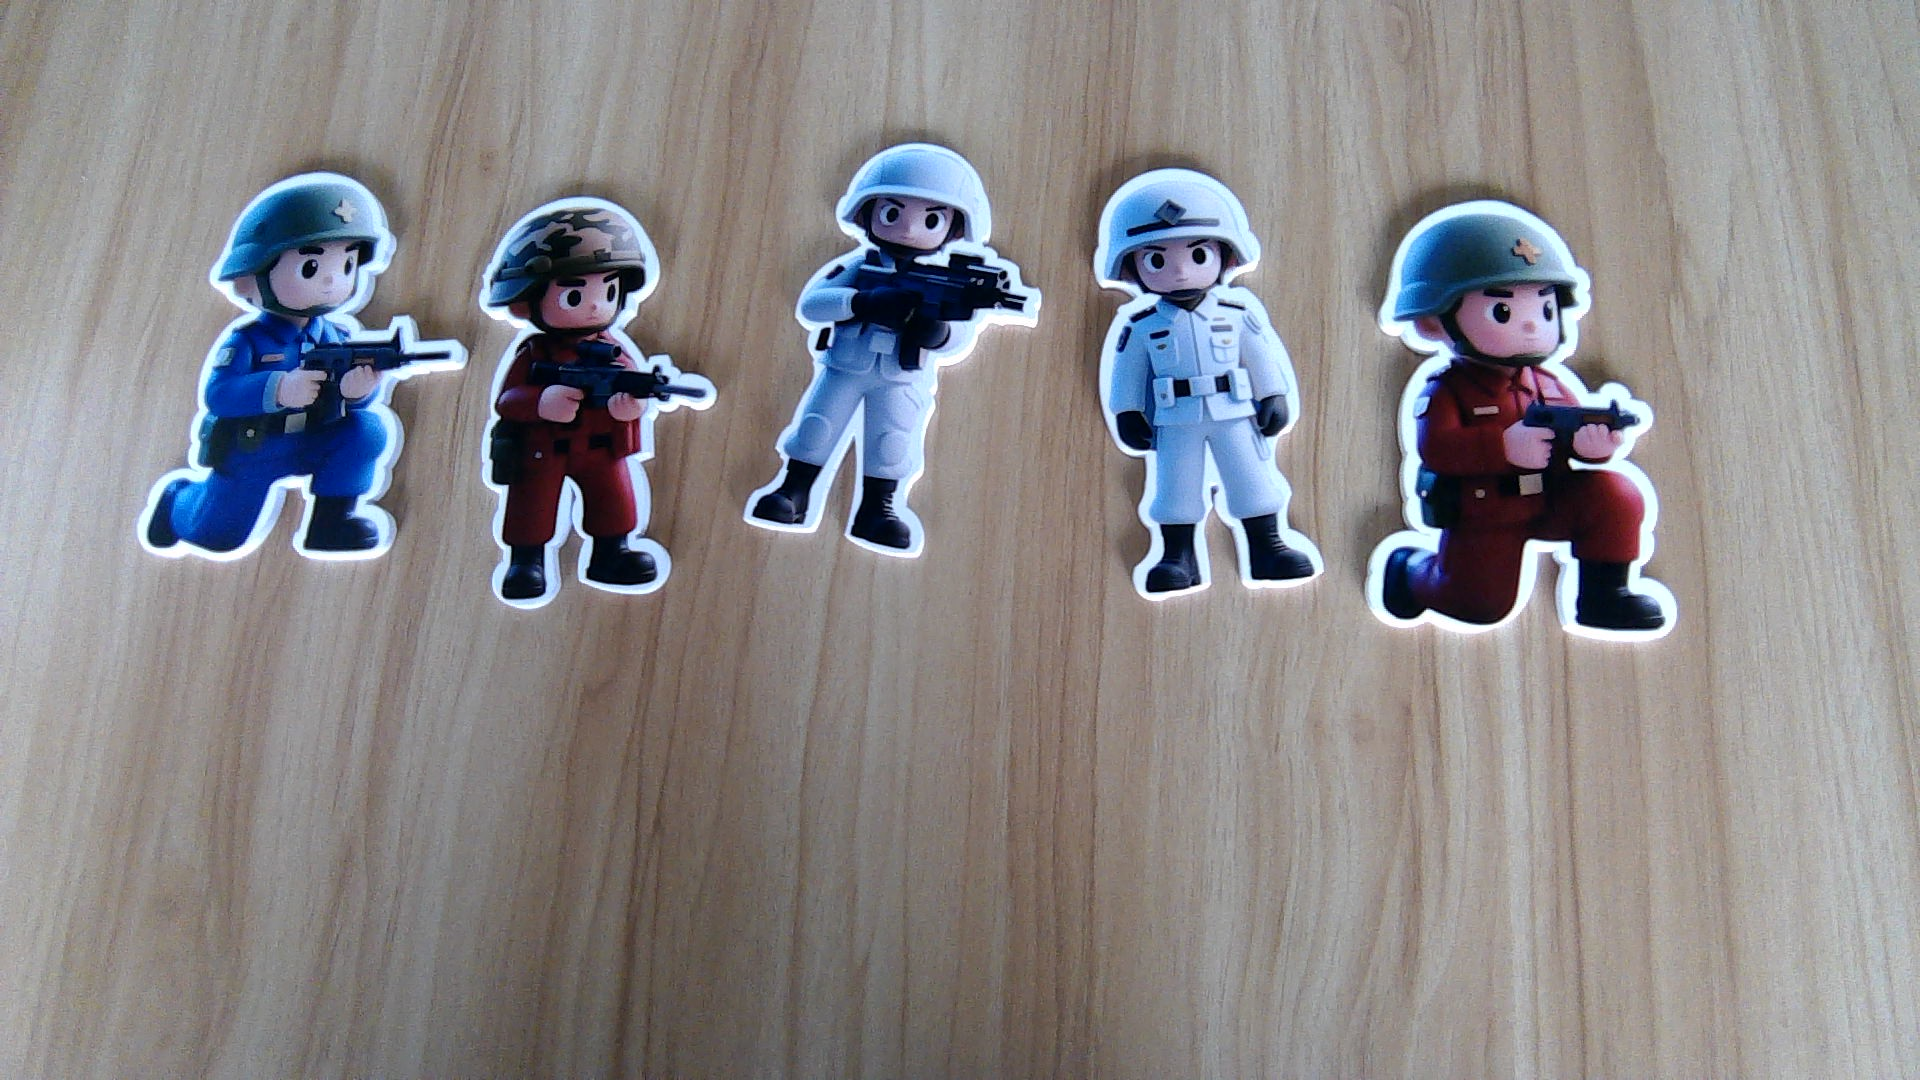人质: (731, 252, 1034, 560), (1087, 293, 1331, 603)
敌人1: (1361, 367, 1679, 645), (476, 336, 713, 609)
敌人2: (128, 318, 458, 570)
